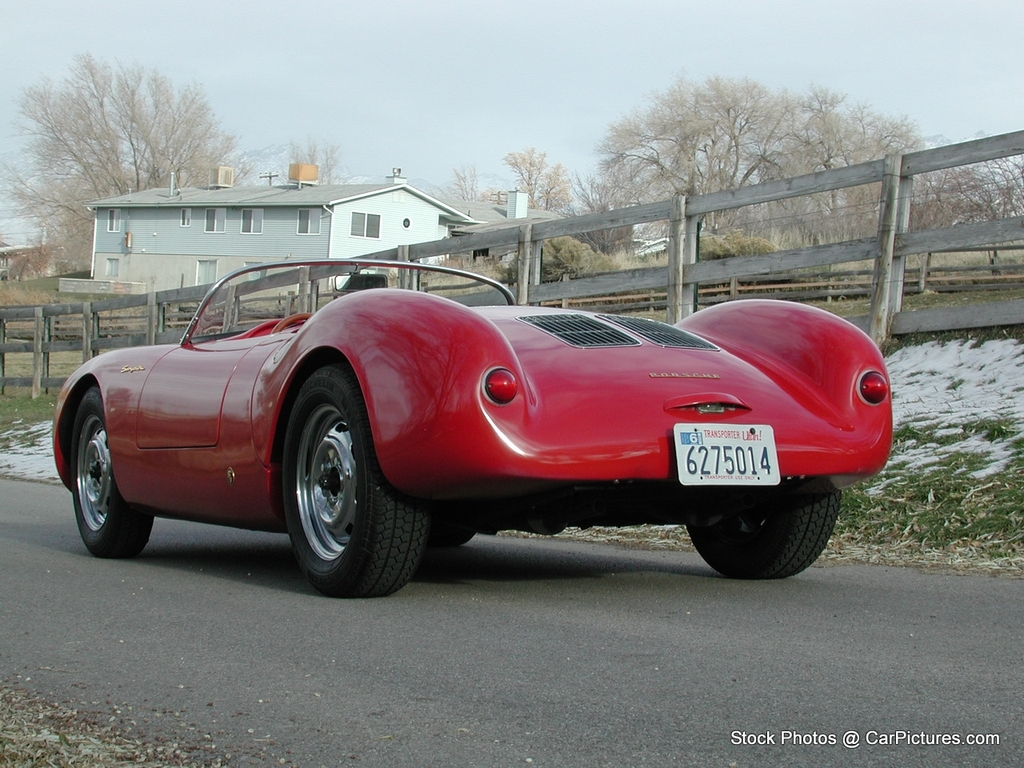Tree: (431, 62, 1024, 240), (0, 44, 352, 275)
